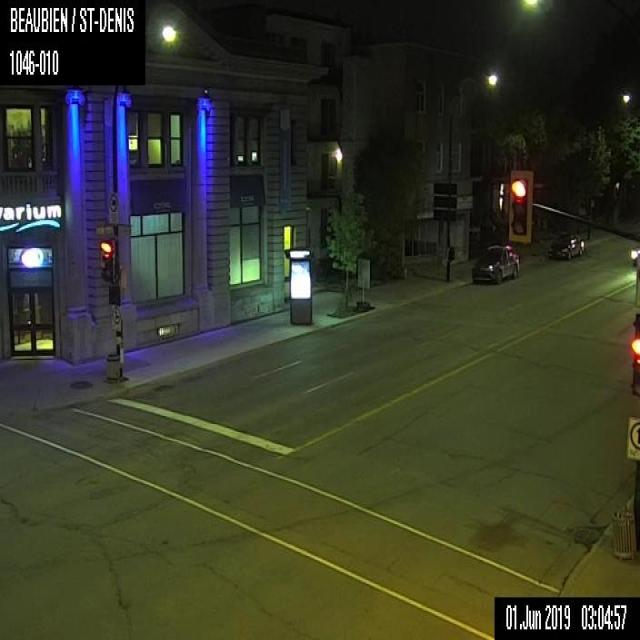pedestrian: (584, 226, 592, 258)
vehicle: (470, 241, 522, 284), (544, 231, 586, 260), (628, 242, 639, 266)
